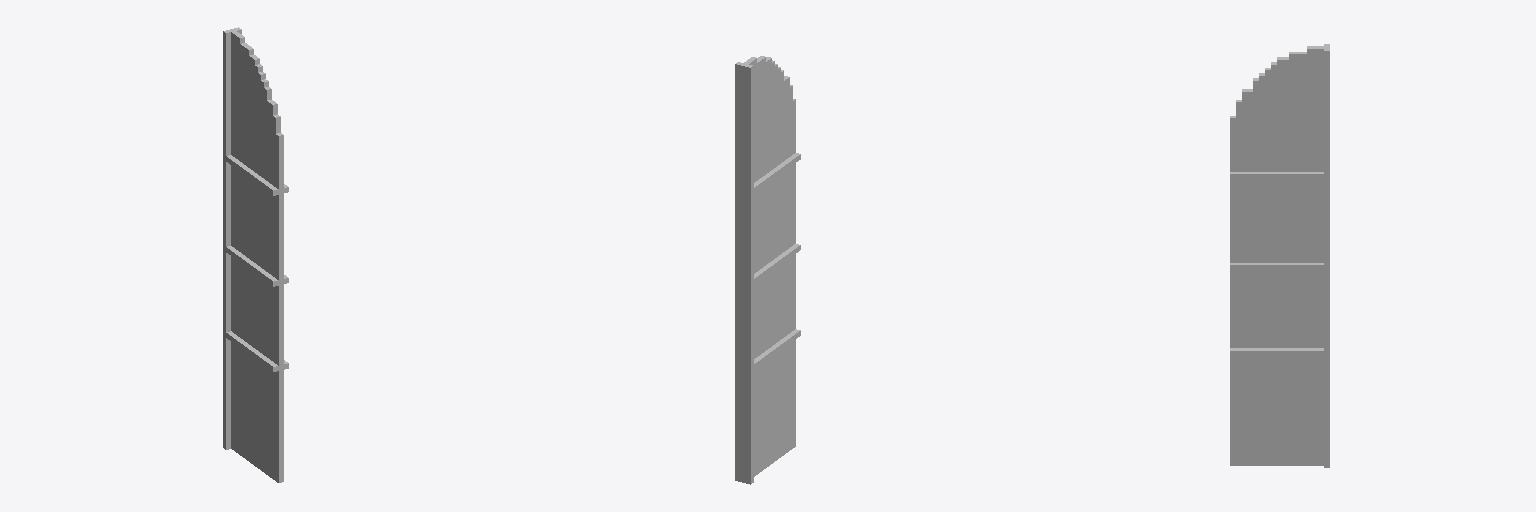
File: window.obj
3 views of the same model, side by side, from view 1: azimuth 30°, elevation 25°; view 2: azimuth 150°, elevation 25°; view 3: azimuth 270°, elevation 25° (orthographic).
Bounding box in the file's own units: 3 × 78 × 17.